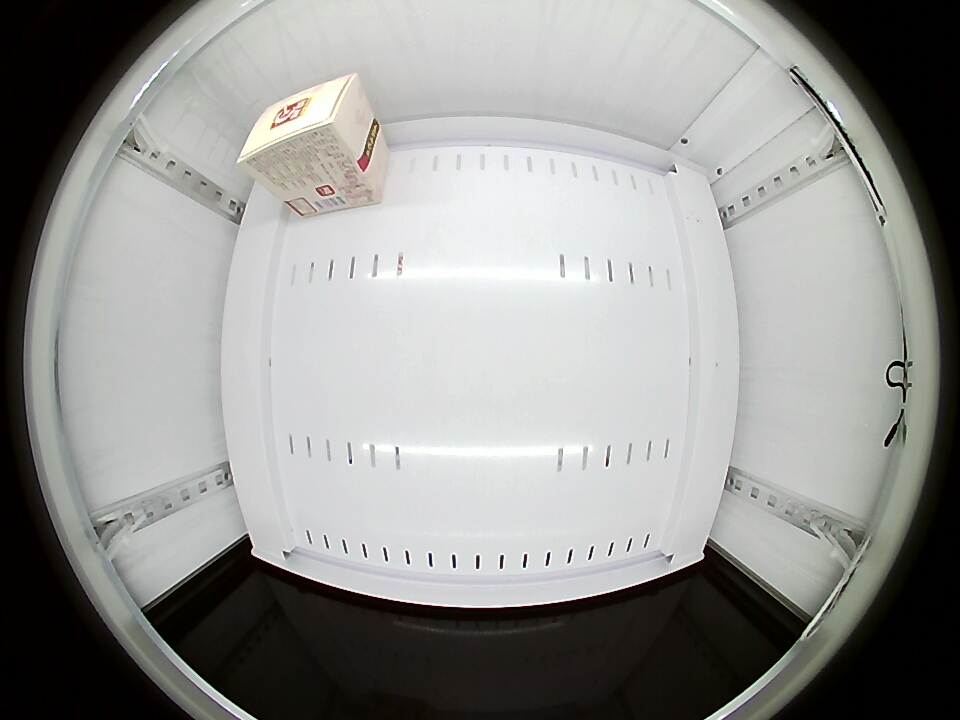rousongbing: (236, 72, 370, 188)
